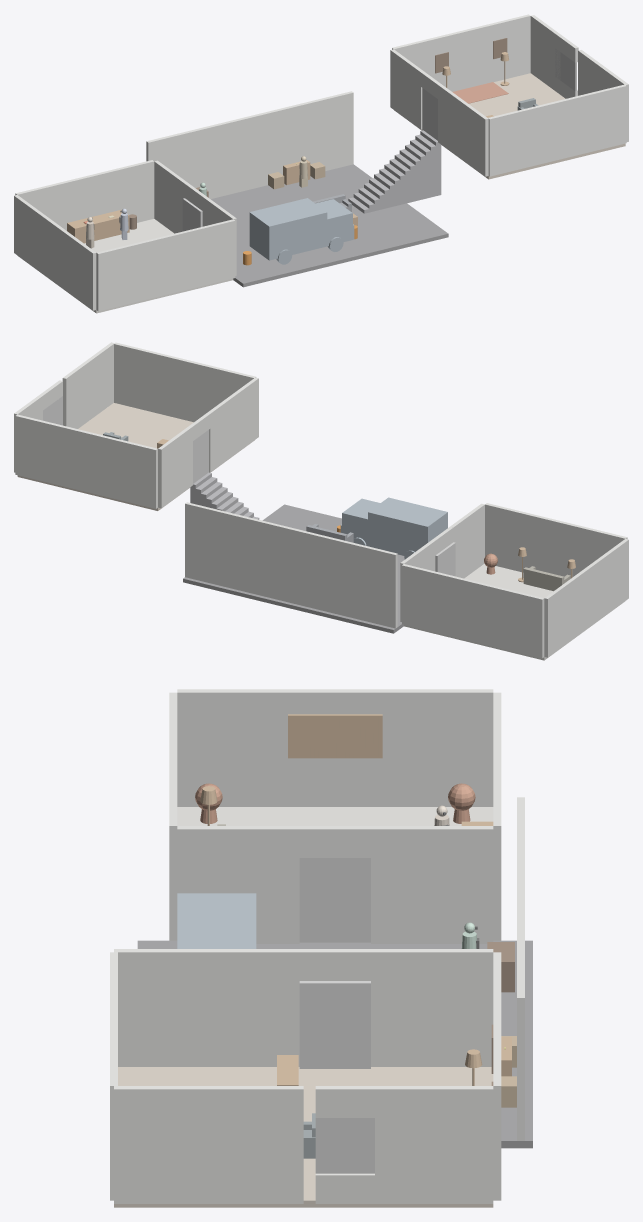
3 views of the same model, one above another, from view 1: azimuth 30°, elevation 25°; view 2: azimuth 150°, elevation 25°; view 3: azimuth 270°, elevation 25° (orthographic). The views are drawn at different scales.
Visible parts, largest first — view 1: S02_Wall_North, S02_Ground, S01_Wall_South, S03_Wall_South, S03_Wall_North, S01_Wall_North, DeliveryVan, S01_Wall_West, Stairs_S02_S03, S03_Wall_West_S, S03_Floor, S03_Wall_West_N (+10 smaller); view 2: S02_Wall_North, S01_Wall_North, S03_Wall_North, S03_Wall_South, S01_Wall_South, S01_Wall_West, DeliveryVan, S03_Floor, S03_Wall_West_S, S03_Wall_East_S, S02_Ground, S03_Wall_West_N (+8 smaller); view 3: S01_Wall_West, S03_Wall_East_S, S03_Wall_West_S, S01_Wall_East_N, S03_Wall_West_N, S03_Wall_East_N, S01_Wall_East_S, S03_Floor, S03_EntryDoorway, S01_DeliveryDoorway, S01_Floor, S02_Ground (+14 smaller).
Boxes of the visible parts, x1,y1,x2,y2 form: S02_Wall_North: (146,91,353,198); S02_Ground: (211,164,448,287); S01_Wall_South: (96,219,235,311); S03_Wall_South: (488,84,626,176); S03_Wall_North: (392,14,530,91); S01_Wall_North: (15,160,154,230); DeliveryVan: (249,198,354,264); S01_Wall_West: (14,195,96,310); Stairs_S02_S03: (348,130,441,213); S03_Wall_West_S: (438,84,488,176); S03_Floor: (394,73,625,179); S03_Wall_West_N: (390,49,423,129); S02_Wall_North: (185,502,397,628); S01_Wall_North: (402,564,544,658); S03_Wall_North: (15,414,157,508); S03_Wall_South: (114,342,256,422); S01_Wall_South: (485,503,627,578); S01_Wall_West: (544,539,628,657); DeliveryVan: (340,497,447,559); S03_Floor: (17,403,254,510); S03_Wall_West_S: (207,377,258,472); S03_Wall_East_S: (62,342,114,428); S02_Ground: (183,504,404,633); S03_Wall_West_N: (158,426,192,508); S01_Wall_West: (177,689,493,806); S03_Wall_East_S: (114,1086,303,1203); S03_Wall_West_S: (114,949,303,1066); S01_Wall_East_N: (371,826,493,943); S03_Wall_West_N: (371,949,493,1066); S03_Wall_East_N: (375,1086,493,1203); S01_Wall_East_S: (177,826,299,943); S03_Floor: (114,1067,493,1207); S03_EntryDoorway: (299,981,370,1068); S01_DeliveryDoorway: (299,858,370,942); S01_Floor: (177,807,493,825); S02_Ground: (137,940,532,1148).
Size of the model in its own units: 30.4 by 6.4 by 10.7.
